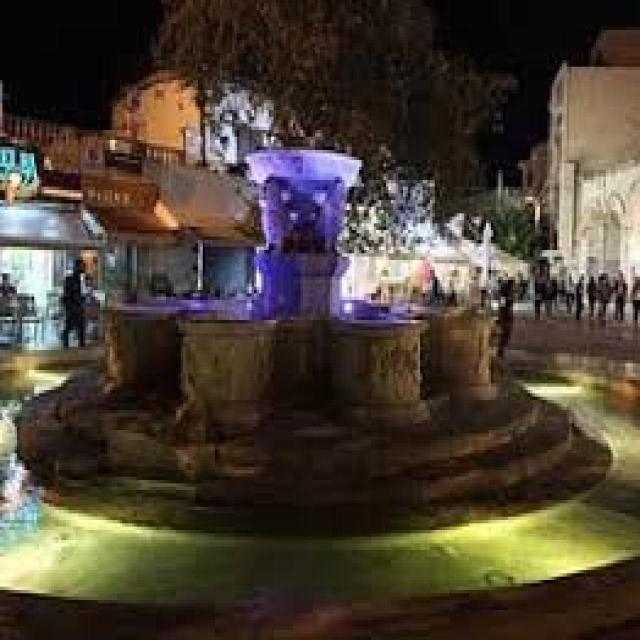Liontaria: (102, 157, 502, 439)
